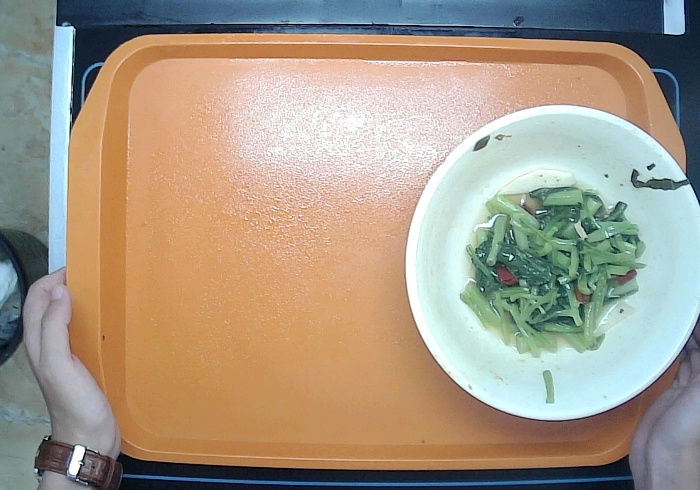ZNLD-Da_Tang_Wan: (403, 102, 700, 422)
